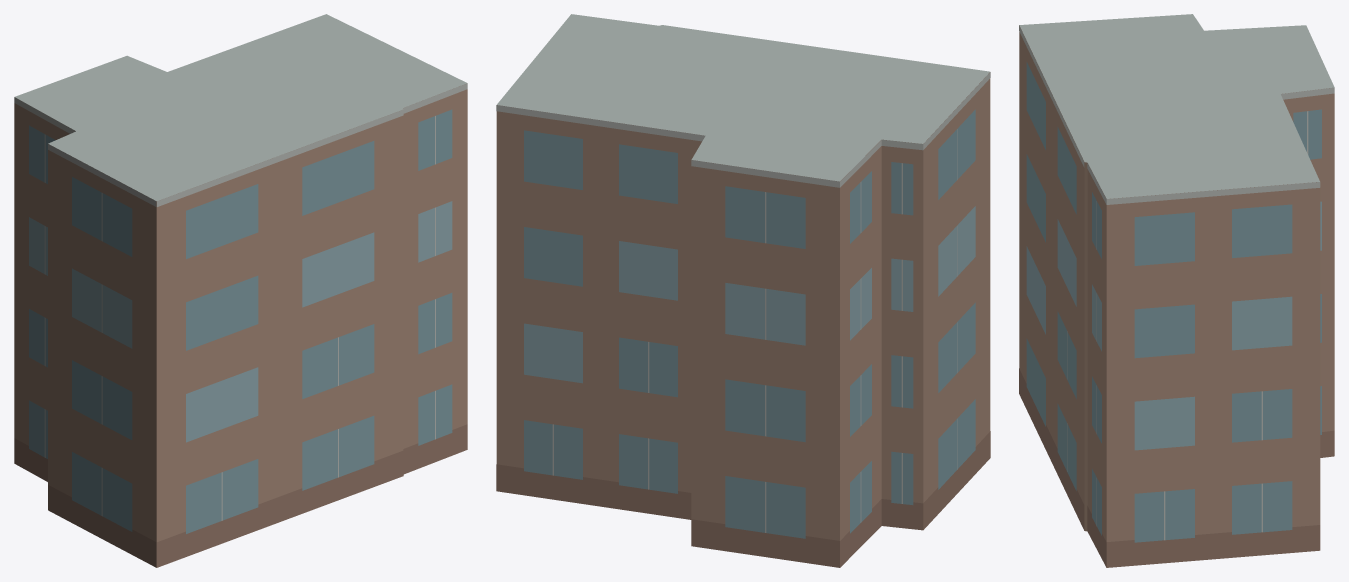
The model's file is survey-upis-32457788.glb.
The picture shows the model from 3 angles, left to right: view 1: azimuth 30°, elevation 25°; view 2: azimuth 150°, elevation 25°; view 3: azimuth 270°, elevation 25°; orthographic projection. The views are drawn at different scales.
Parts seen in each view (by area): view 1: survey-upis-32457788.tmp; view 2: survey-upis-32457788.tmp; view 3: survey-upis-32457788.tmp.
Boxes of the visible parts, x1,y1,x2,y2 form: survey-upis-32457788.tmp: (14,14,467,567); survey-upis-32457788.tmp: (496,14,990,567); survey-upis-32457788.tmp: (1019,14,1334,567).
Size of the model in its own units: 16.09 by 14.95 by 11.6.
